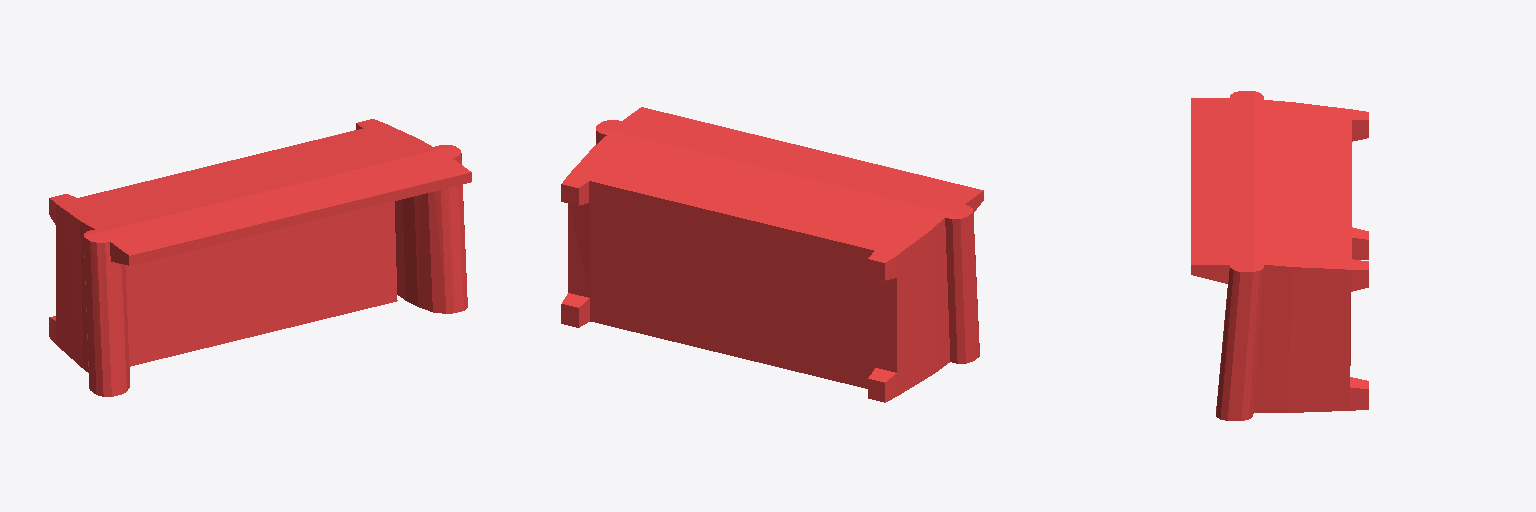
The model's file is cat6_sofa.obj.
3 renders of one model, left to right at view 1: azimuth 30°, elevation 25°; view 2: azimuth 150°, elevation 25°; view 3: azimuth 270°, elevation 25°, orthographic.
Visible parts, largest first — view 1: Layer_Layer0; view 2: Layer_Layer0; view 3: Layer_Layer0.
Boxes of the visible parts, x1,y1,x2,y2 form: Layer_Layer0: [49, 119, 471, 396]; Layer_Layer0: [561, 107, 983, 402]; Layer_Layer0: [1191, 91, 1368, 420].
Bounding box in the file's own units: 77.34 × 29.7 × 32.25.